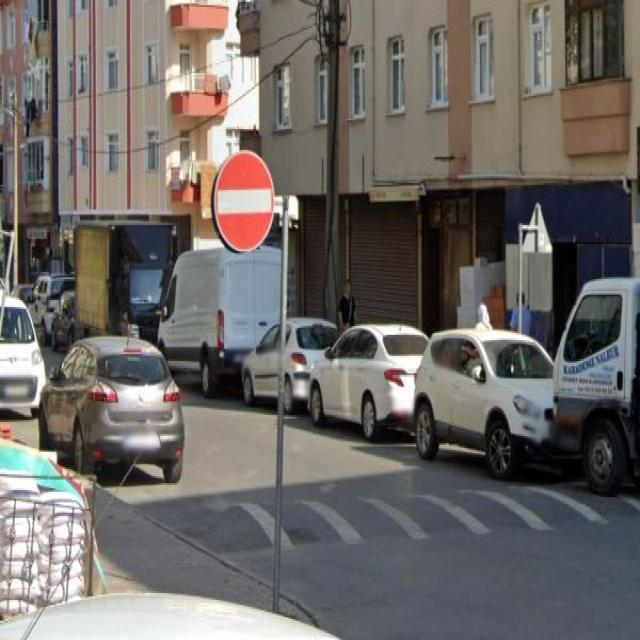girisyok: (213, 150, 273, 251)
